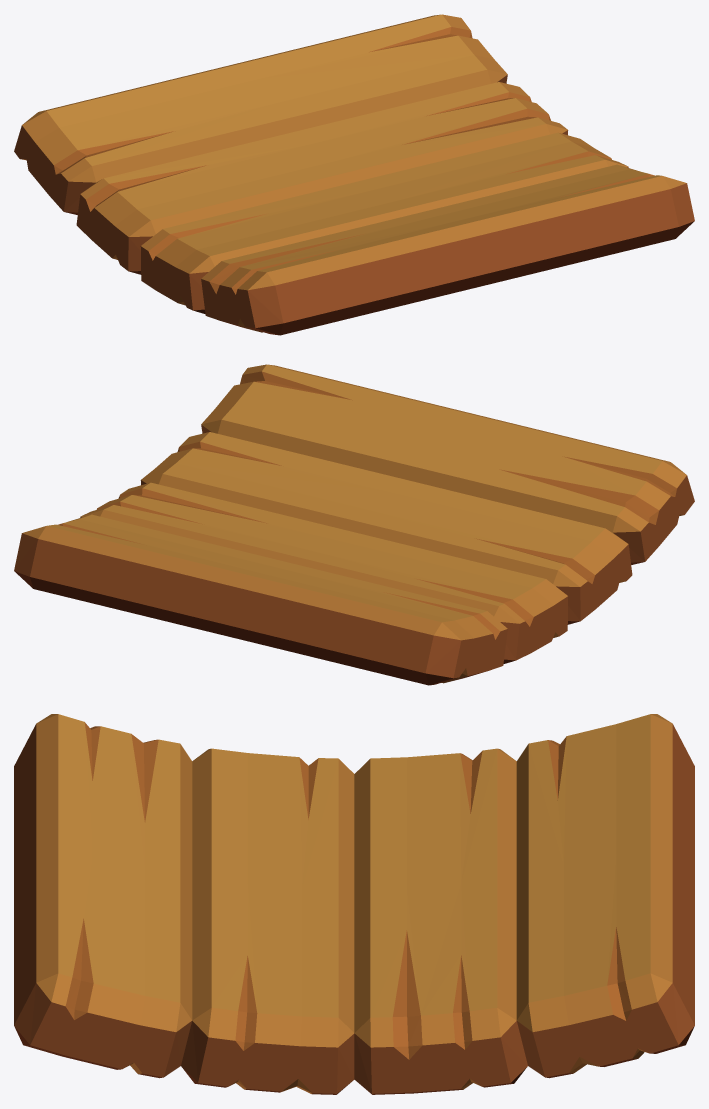
Rendered from m_deco_bridge.FBX.
The picture shows the model from 3 angles, top to bottom: view 1: azimuth 30°, elevation 25°; view 2: azimuth 150°, elevation 25°; view 3: azimuth 270°, elevation 25°; orthographic projection. The views are drawn at different scales.
Visible parts, largest first — view 1: m_deco_bridge; view 2: m_deco_bridge; view 3: m_deco_bridge.
Boxes of the visible parts, left/top/right/bottom form: m_deco_bridge: left=14, top=14, right=694, bottom=335; m_deco_bridge: left=14, top=364, right=694, bottom=685; m_deco_bridge: left=14, top=714, right=694, bottom=1094.
Size of the model in its own units: 2 by 0.3938 by 2.
